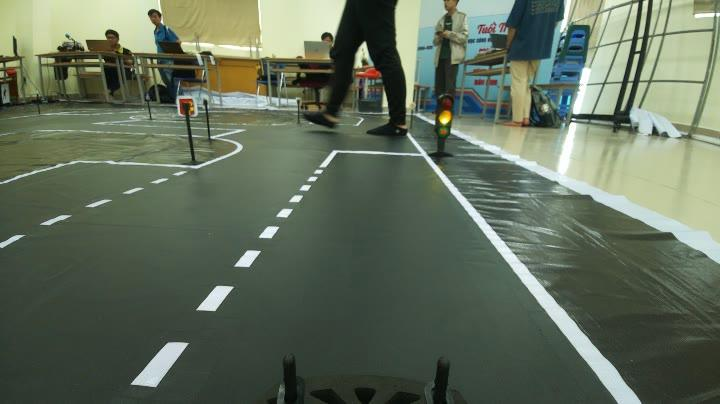trafficlight: (421, 92, 458, 161)
